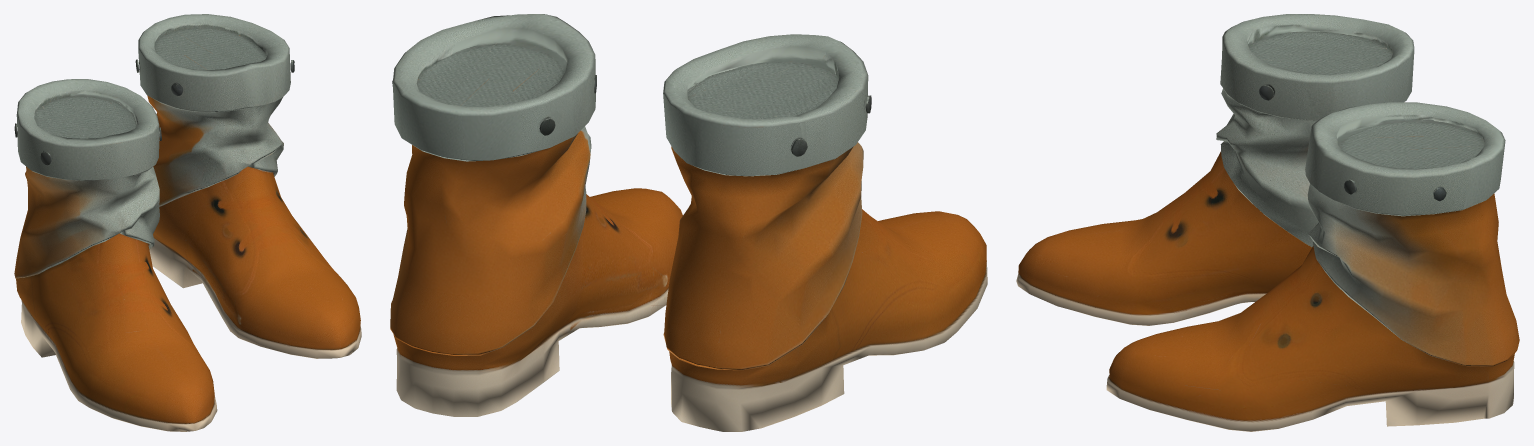
File: soft-boots_refine.glb
3 renders of one model, left to right at view 1: azimuth 30°, elevation 25°; view 2: azimuth 150°, elevation 25°; view 3: azimuth 270°, elevation 25°, orthographic. The views are drawn at different scales.
Size of the model in its own units: 0.7549 by 0.5669 by 0.9531.
Materials: 1 (1 with a texture image).
